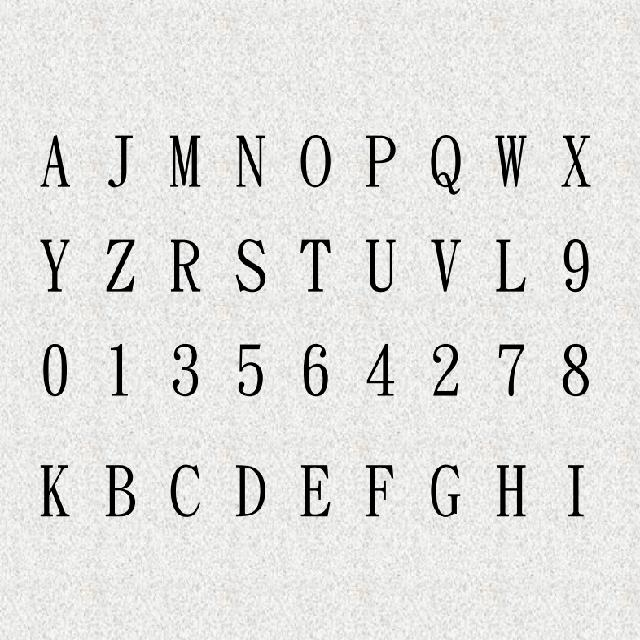0: (40, 338, 69, 400)
1: (109, 339, 132, 402)
2: (431, 337, 460, 399)
3: (171, 340, 199, 400)
4: (365, 337, 396, 401)
5: (236, 336, 264, 400)
6: (300, 338, 327, 399)
7: (498, 339, 524, 399)
8: (562, 339, 592, 399)
9: (560, 237, 590, 299)
A: (36, 130, 74, 190)
B: (105, 462, 138, 522)
C: (165, 461, 202, 518)
D: (232, 459, 270, 521)
E: (294, 458, 336, 522)
F: (360, 460, 396, 520)
G: (428, 460, 460, 522)
H: (492, 456, 532, 524)
I: (564, 457, 588, 522)
J: (107, 130, 138, 192)
K: (38, 458, 72, 521)
L: (491, 232, 527, 298)
M: (166, 132, 204, 188)
N: (232, 129, 267, 191)
O: (300, 132, 334, 194)
P: (361, 132, 398, 189)
Q: (426, 129, 464, 198)
R: (166, 234, 206, 294)
S: (230, 237, 270, 295)
T: (300, 234, 330, 299)
U: (362, 232, 398, 297)
V: (426, 234, 462, 294)
W: (490, 129, 531, 189)
X: (558, 126, 592, 188)
Y: (38, 234, 70, 299)
Z: (107, 236, 139, 296)
